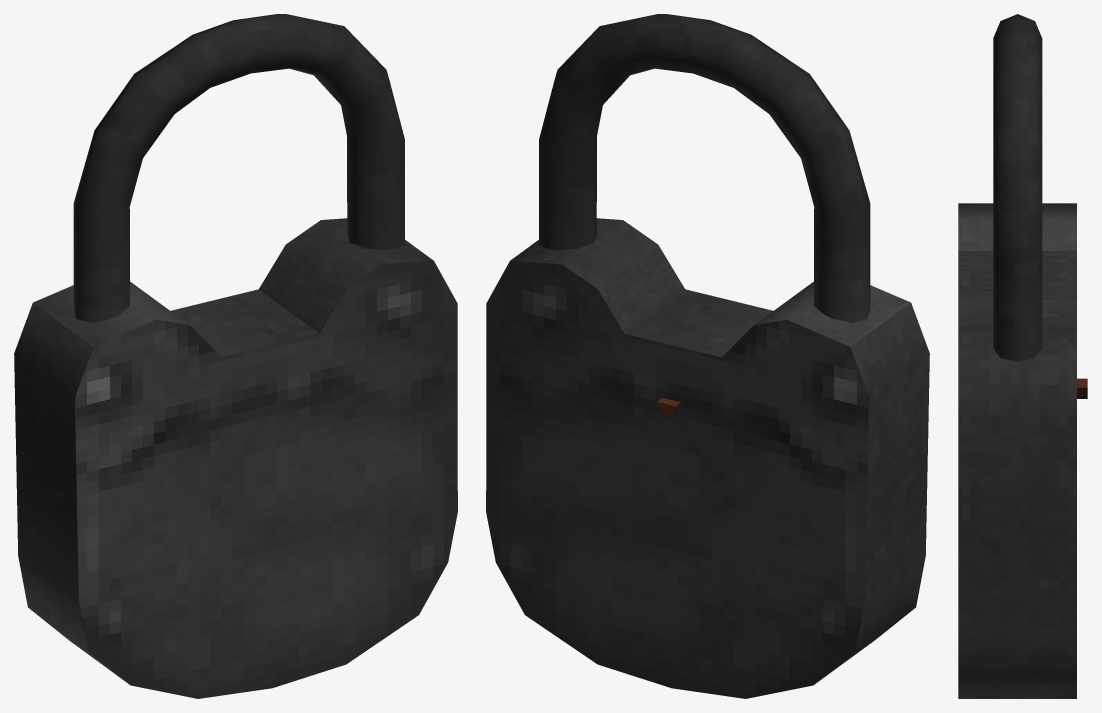
The model's file is padlock_4.glb.
3 renders of one model, left to right at view 1: azimuth 30°, elevation 25°; view 2: azimuth 150°, elevation 25°; view 3: azimuth 270°, elevation 25°, orthographic. The views are drawn at different scales.
Parts seen in each view (by area): view 1: padlock_4, padlock_4_shackle; view 2: padlock_4, padlock_4_shackle; view 3: padlock_4, padlock_4_shackle.
Part boxes in pixels (box(x1,y1,x2,y2)): padlock_4: box(14, 218, 457, 698); padlock_4_shackle: box(73, 14, 404, 322); padlock_4: box(486, 218, 929, 698); padlock_4_shackle: box(539, 14, 870, 322); padlock_4: box(958, 203, 1087, 698); padlock_4_shackle: box(993, 14, 1042, 361).
Bounding box in the file's own units: 0.0806 × 0.1299 × 0.0241.
Materials: 1 (1 with a texture image).
